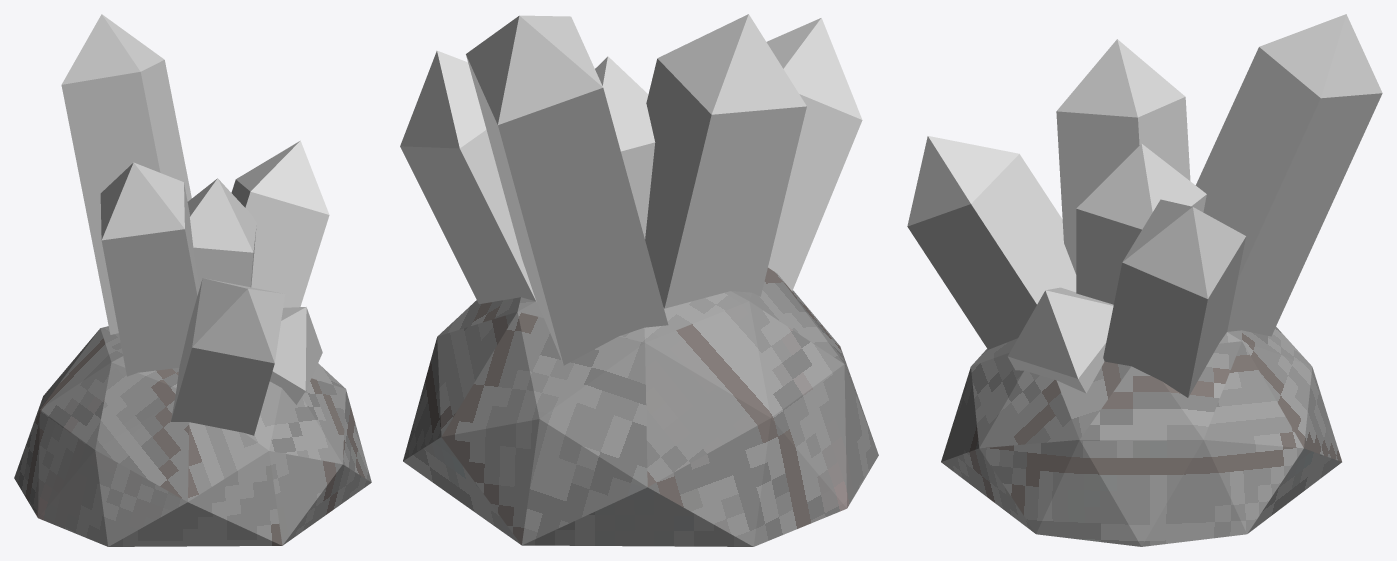
The model's file is generic_crystal.gltf.
The picture shows the model from 3 angles, left to right: view 1: azimuth 30°, elevation 25°; view 2: azimuth 150°, elevation 25°; view 3: azimuth 270°, elevation 25°; orthographic projection. The views are drawn at different scales.
Visible parts, largest first — view 1: beveled_cuboid, icosphere; view 2: beveled_cuboid, icosphere; view 3: beveled_cuboid, icosphere.
Part boxes in pixels (bbox=[...]): beveled_cuboid: bbox=[61, 14, 329, 435]; icosphere: bbox=[14, 326, 371, 546]; beveled_cuboid: bbox=[400, 14, 862, 365]; icosphere: bbox=[403, 267, 878, 546]; beveled_cuboid: bbox=[907, 14, 1382, 397]; icosphere: bbox=[941, 327, 1341, 546].
Size of the model in its own units: 0.75 by 0.9239 by 0.8881.
2 materials, 1 textured.
